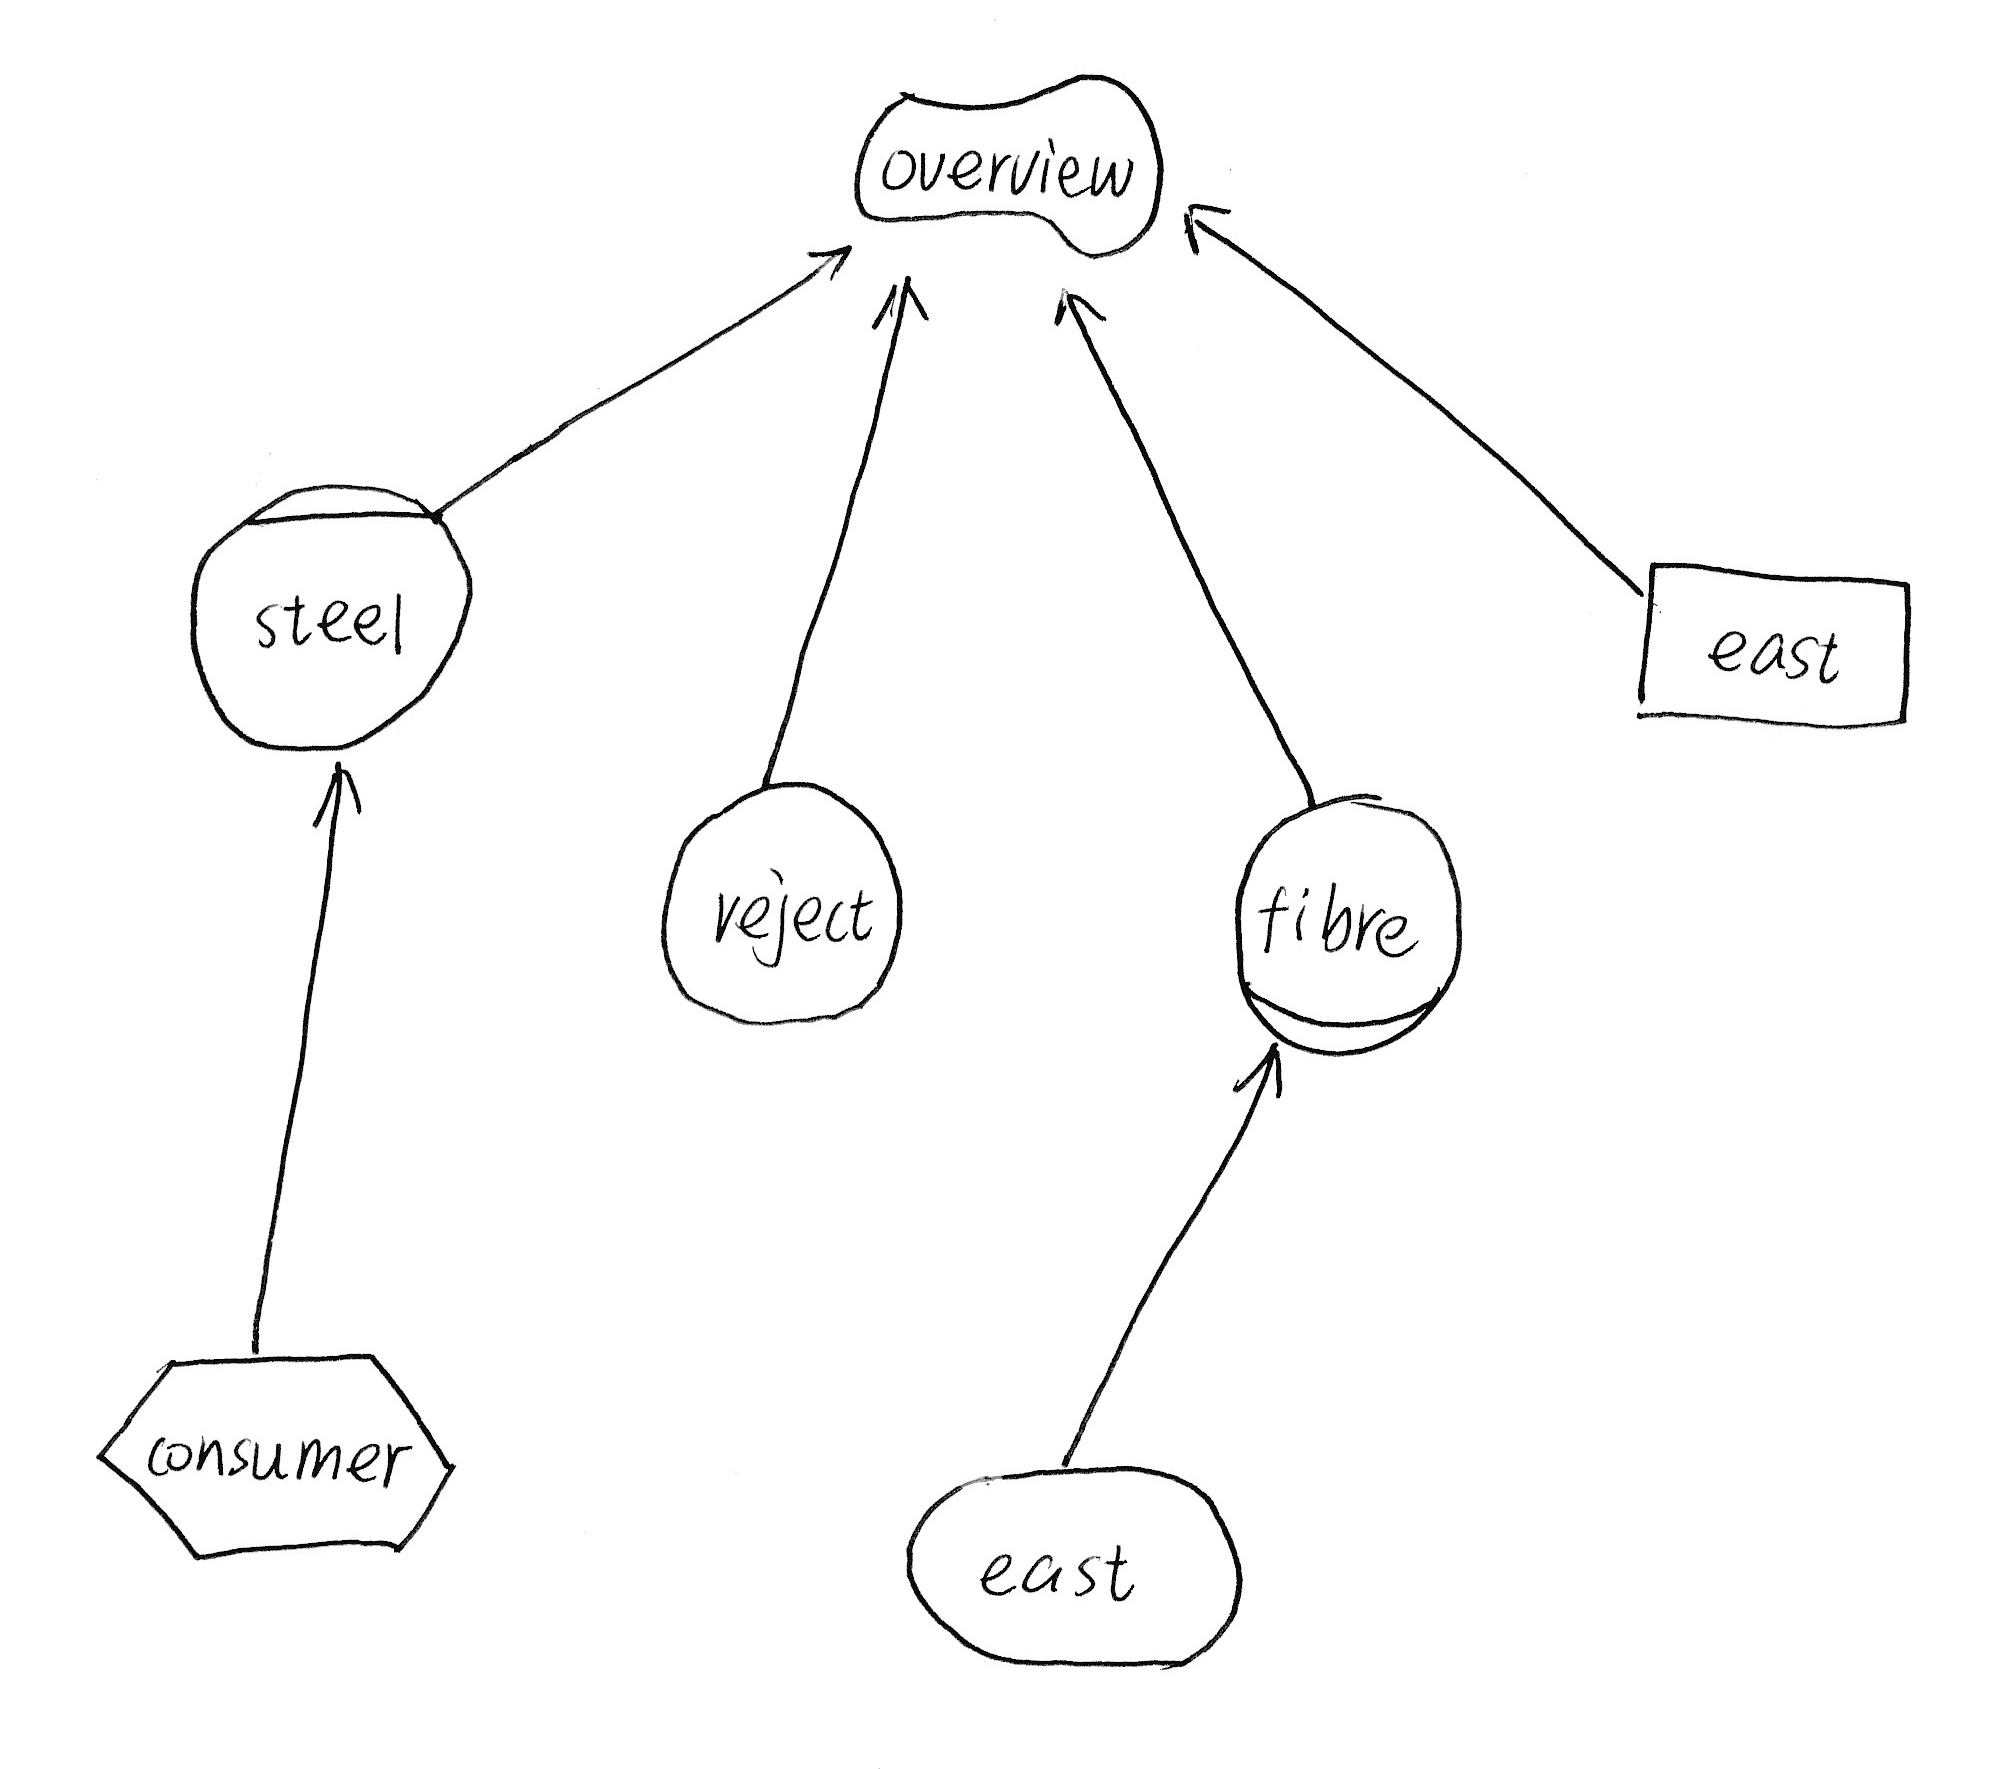actor: (637, 763, 920, 1045)
agent: (171, 464, 492, 765)
arrow: (295, 748, 377, 842), (1217, 1033, 1301, 1117), (1036, 277, 1117, 350), (1170, 188, 1238, 273), (860, 266, 936, 343), (797, 231, 860, 285)
goal: (888, 1450, 1270, 1682)
quality: (842, 58, 1180, 266)
resource: (1619, 541, 1938, 750)
role: (1217, 779, 1480, 1076)
task: (80, 1335, 470, 1579)
